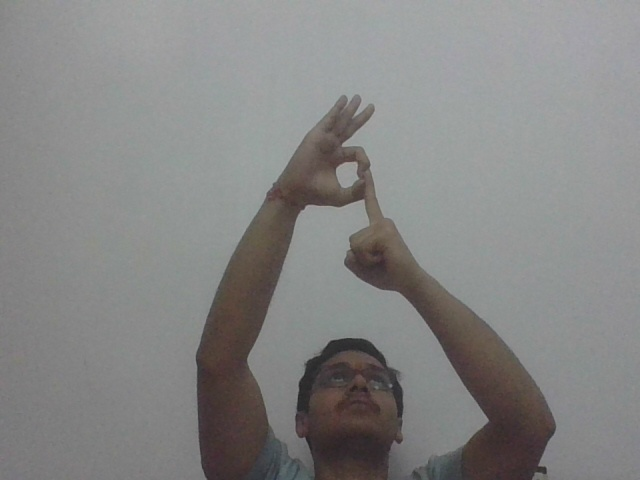P: (290, 92, 413, 281)
